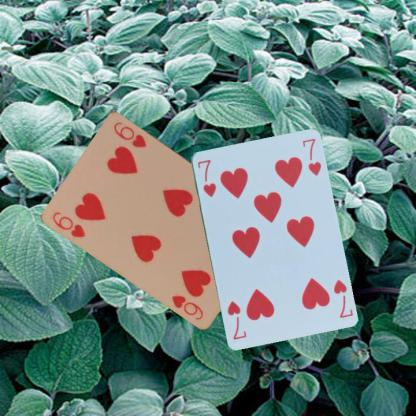6h: (49, 209, 87, 239)
7h: (330, 277, 353, 319), (194, 157, 217, 198)
